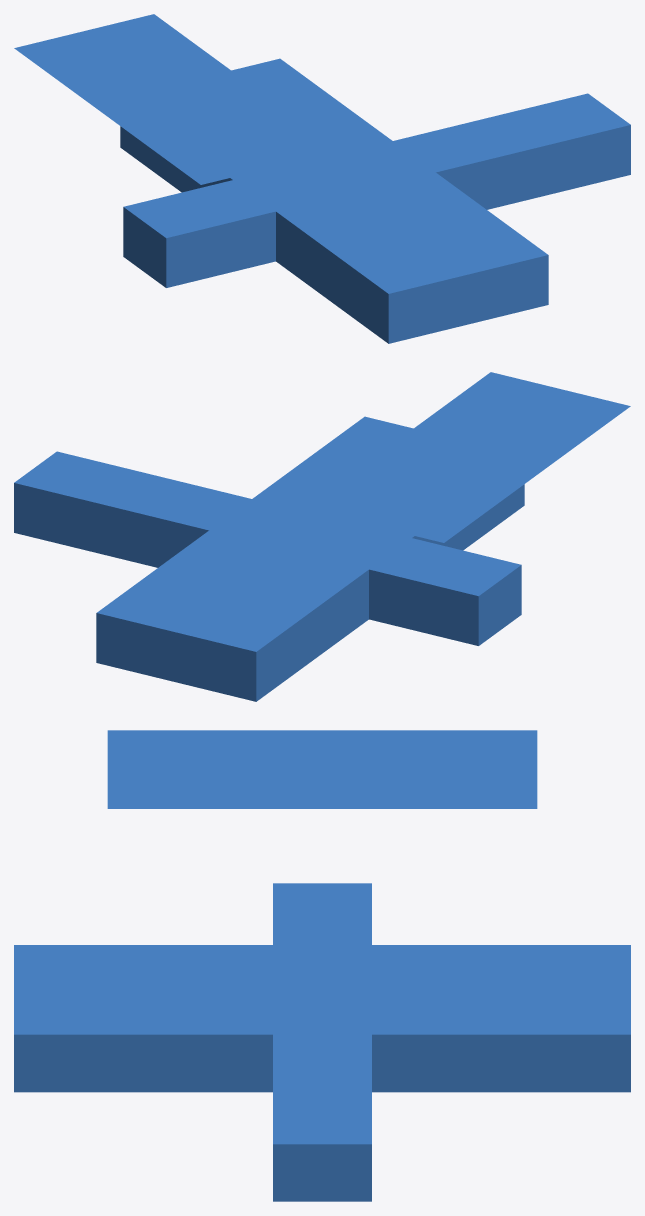
Rendered from noria_water.fbx.
3 views of the same model, one above another, from view 1: azimuth 30°, elevation 25°; view 2: azimuth 150°, elevation 25°; view 3: azimuth 270°, elevation 25° (orthographic). The views are drawn at different scales.
Visible parts, largest first — view 1: polySurface500; view 2: polySurface500; view 3: polySurface500.
Part boxes in pixels (left/top/right/bottom): polySurface500: left=14, top=14, right=630, bottom=343; polySurface500: left=14, top=372, right=630, bottom=701; polySurface500: left=14, top=730, right=630, bottom=1201.
Size of the model in its own units: 108 by 33.92 by 100.
1 material, 1 textured.
